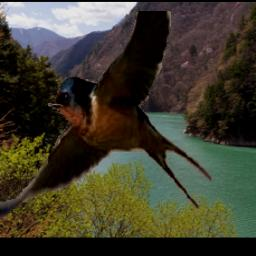Swallow: (0, 12, 212, 228)
